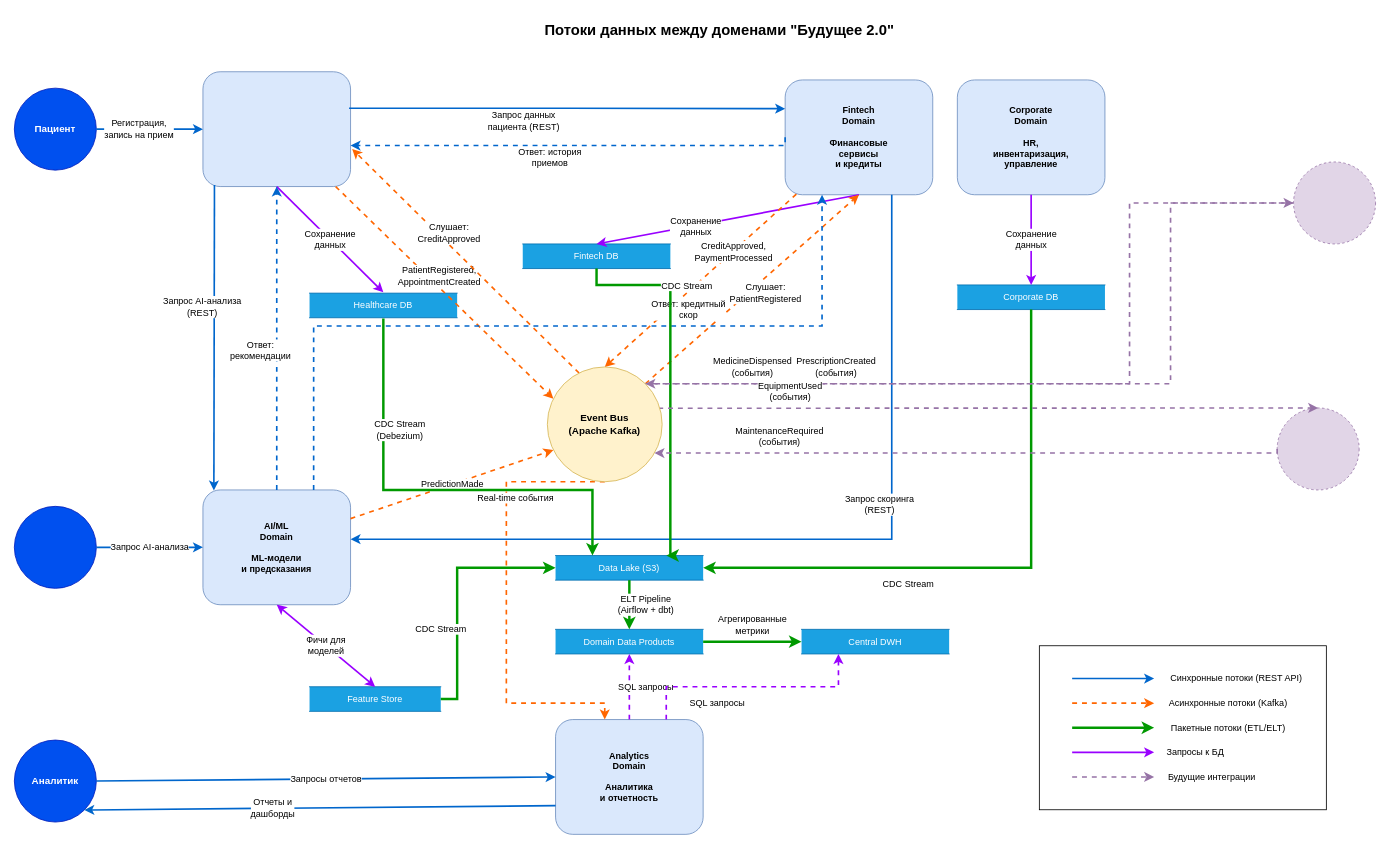
Some shapes in this 1390 by 849 pixel diagram are drawn without their labels. Each missing label, with the box of its shape:
Healthcare Domain Управление пациентами и приемами: (202, 71, 351, 187)
Врач: (14, 506, 96, 588)
Производитель-оборудования (будущее): (1276, 407, 1359, 490)
Фарма-компания (будущее): (1293, 161, 1376, 244)
